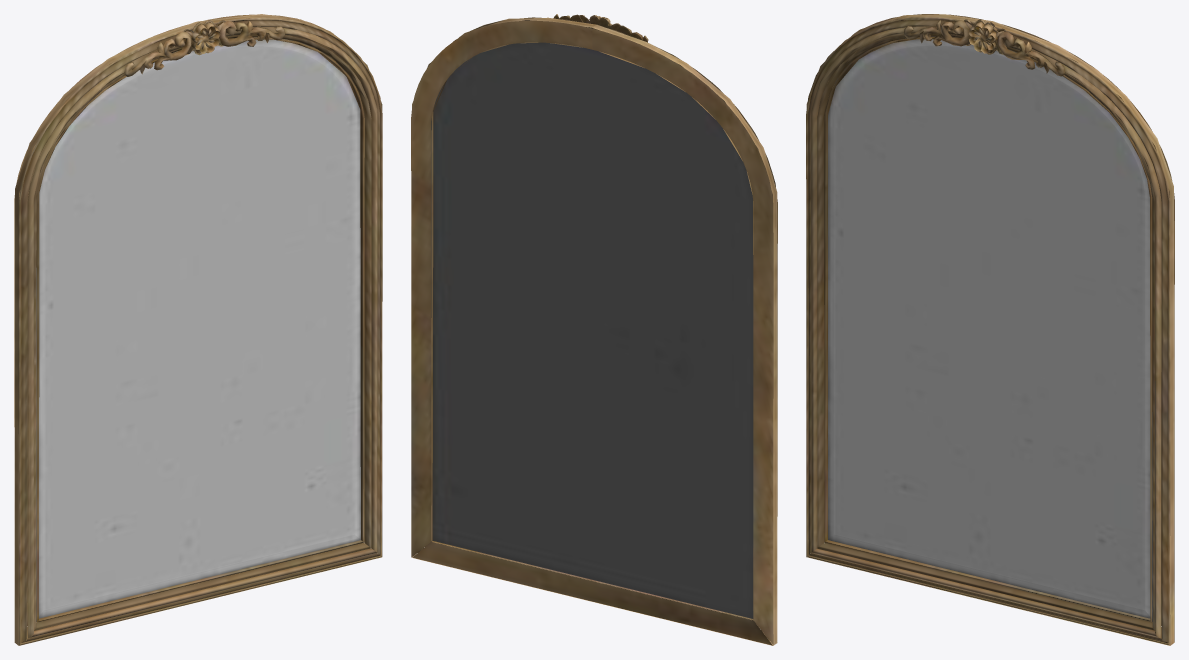
Rendered from mirror_ornate.glb.
3 renders of one model, left to right at view 1: azimuth 30°, elevation 25°; view 2: azimuth 150°, elevation 25°; view 3: azimuth 330°, elevation 25°, orthographic.
Parts seen in each view (by area): view 1: ornate_mirror_01; view 2: ornate_mirror_01; view 3: ornate_mirror_01.
Part boxes in pixels (left/top/right/bottom): ornate_mirror_01: left=14, top=14, right=382, bottom=645; ornate_mirror_01: left=411, top=14, right=777, bottom=645; ornate_mirror_01: left=806, top=14, right=1174, bottom=645.
Size of the model in its own units: 0.4864 by 0.7441 by 0.026.
1 material, 1 textured.
